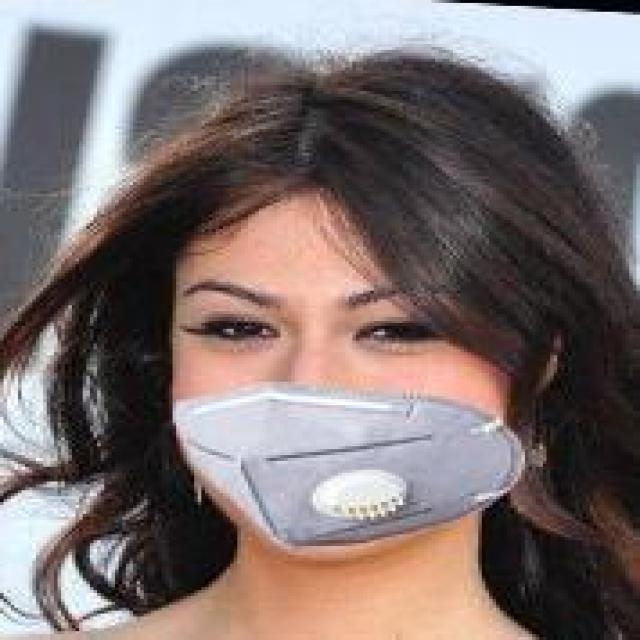mask: (115, 82, 568, 581)
